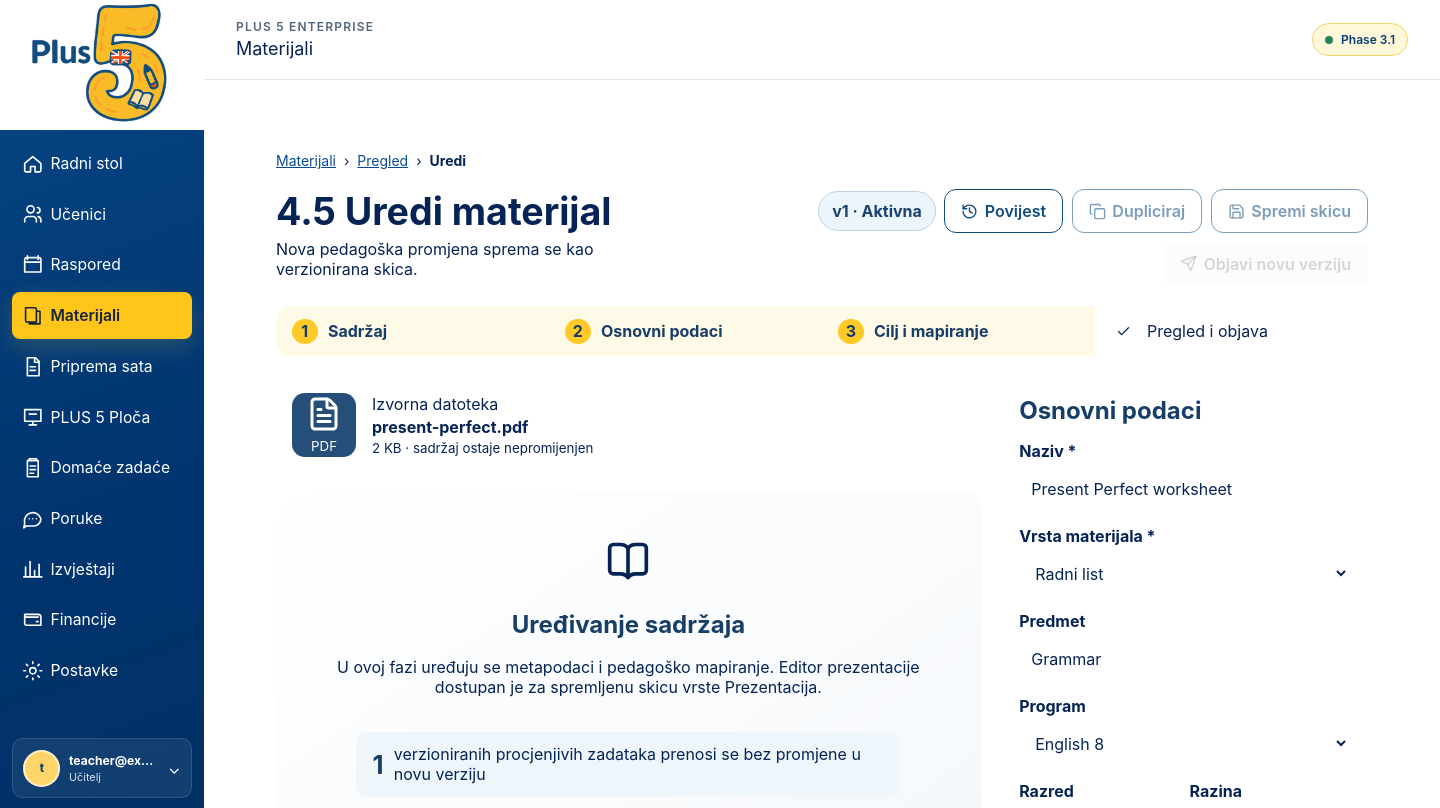
Test: material editing and version history › opens immutable history and describes restore as a new draft
Click the button "Povijest": (1004, 211) [944, 189, 1063, 233]
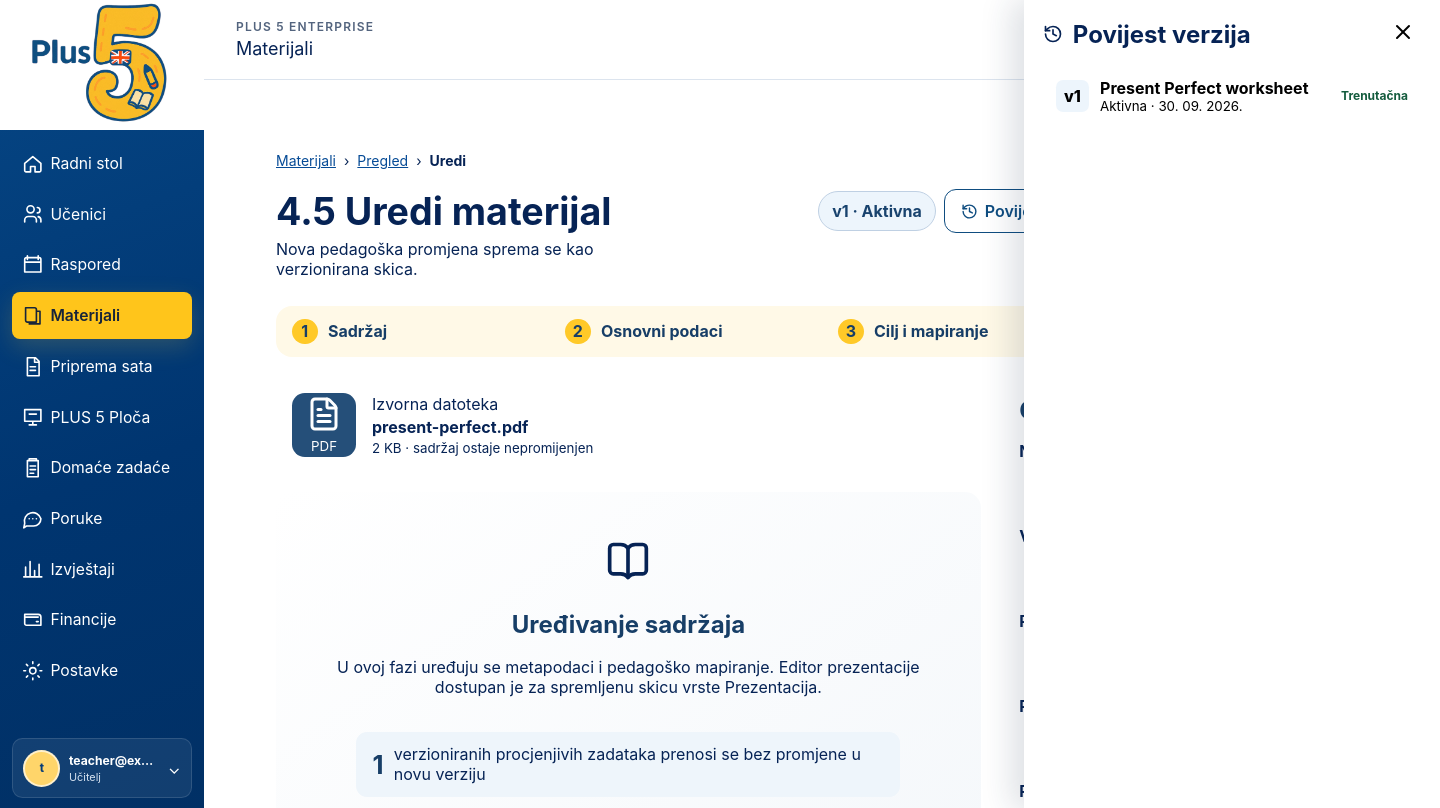
Click the button that starts with "Present Perfect worksheet": (1232, 96) [1043, 65, 1421, 127]
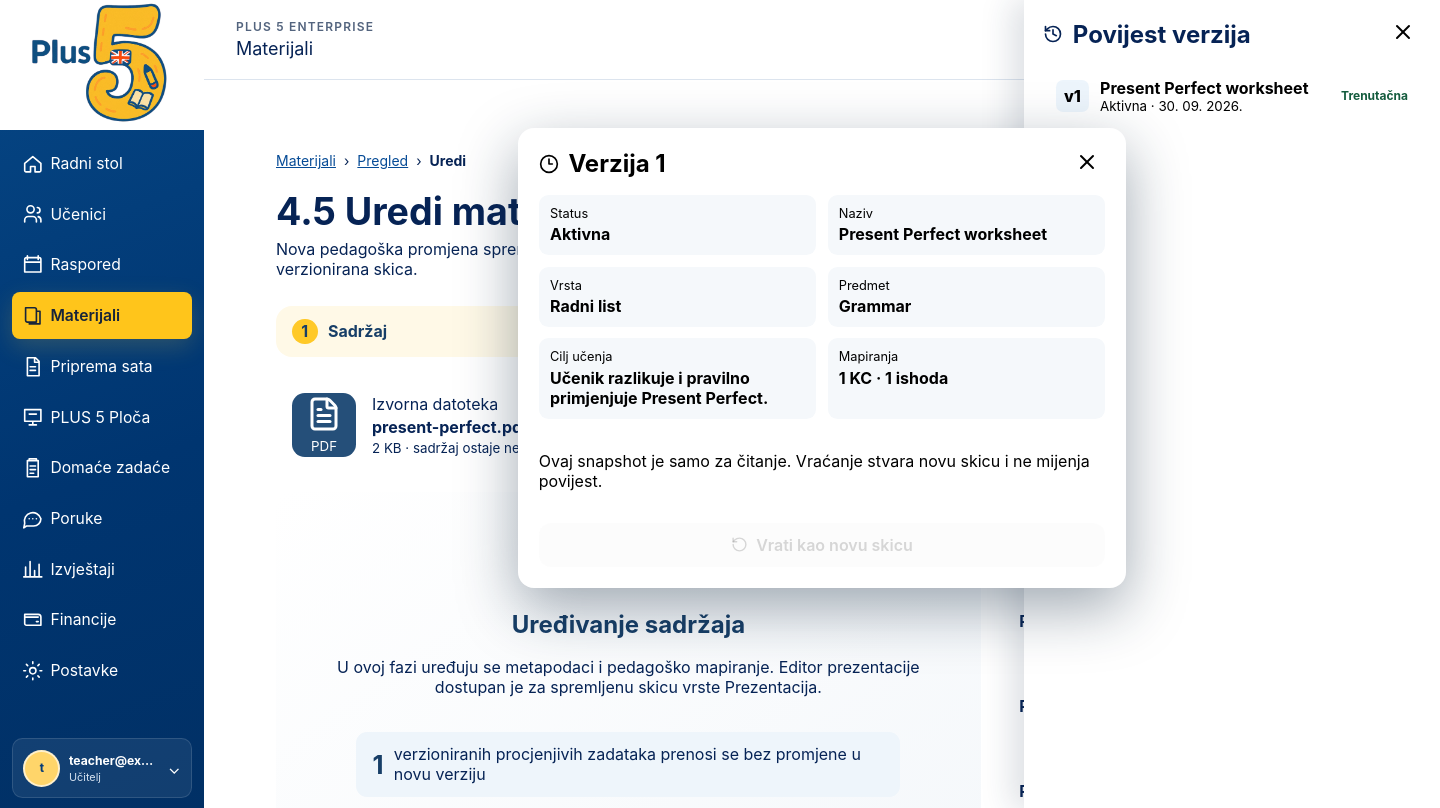
Now the heading "Verzija 1" is shown, box [568, 149, 666, 178]
Now the text "Vraćanje stvara novu skicu" is shown, box [539, 451, 1090, 491]
Now the button "Vrati kao novu skicu" is disabled, box [539, 523, 1105, 567]
